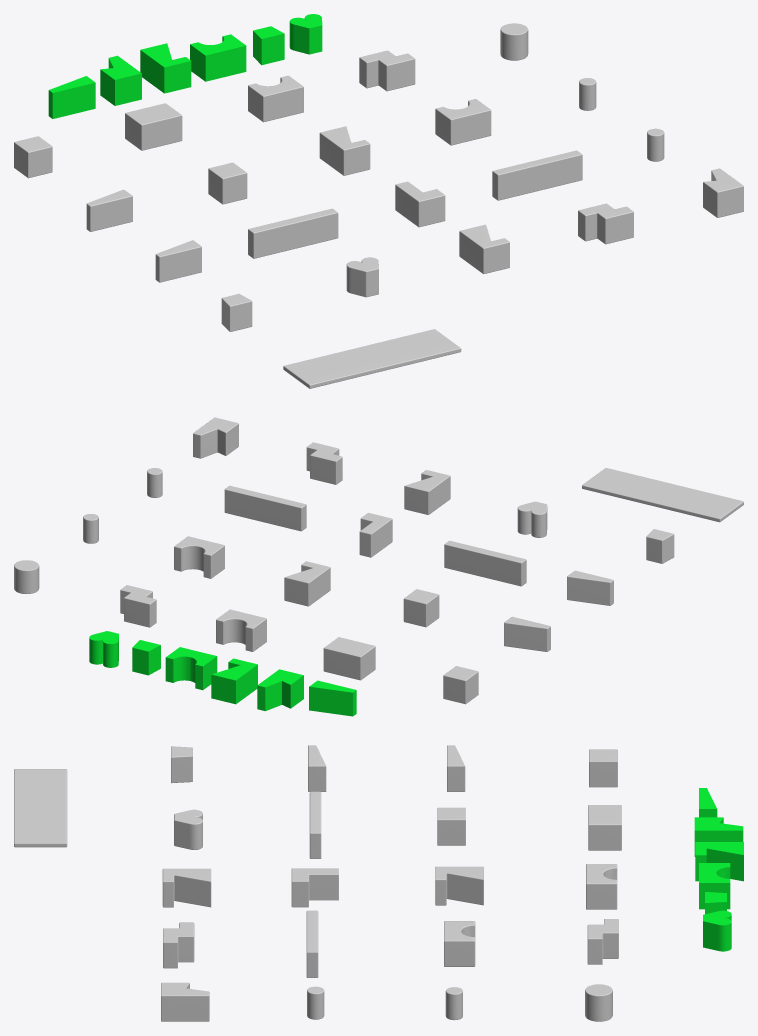
The model's file is badaboum.glb.
3 renders of one model, top to bottom at view 1: azimuth 30°, elevation 25°; view 2: azimuth 150°, elevation 25°; view 3: azimuth 270°, elevation 25°, orthographic. The views are drawn at different scales.
Parts seen in each view (by area): view 1: board, b_12, b_19, b_1, b_10, b_2, b_3, b_14, b_9, b_13, b_11, b_15 (+15 smaller); view 2: board, b_19, b_12, b_1, b_10, b_2, b_9, b_13, b_15, c_91, s_7, b_7 (+15 smaller); view 3: board, b_13, b_9, b_15, b_11, b_1, b_2, b_10, b_14, b_3, b_0, b_8 (+13 smaller).
Part boxes in pixels (box(x1,y1,x2,y2)): board: box(283, 329, 461, 388); b_12: box(492, 150, 582, 200); b_19: box(248, 208, 338, 258); b_1: box(125, 103, 182, 150); b_10: box(435, 99, 491, 145); b_2: box(248, 75, 303, 122); b_3: box(359, 50, 415, 91); b_14: box(578, 203, 633, 244); b_9: box(319, 126, 370, 175); b_13: box(459, 224, 509, 274); b_11: box(395, 181, 445, 227); b_15: box(703, 168, 743, 217); board: box(582, 468, 743, 522); b_19: box(444, 540, 526, 586); b_12: box(224, 485, 306, 531); b_1: box(323, 637, 375, 680); b_10: box(174, 536, 224, 578); b_2: box(216, 609, 266, 651); b_9: box(284, 561, 330, 606); b_13: box(404, 470, 450, 514); b_15: box(193, 417, 238, 458); c_91: box(211, 664, 257, 704); s_7: box(309, 680, 356, 716); b_7: box(504, 616, 550, 651); board: box(14, 769, 67, 847); b_13: box(162, 868, 211, 907); b_9: box(435, 866, 483, 905); b_15: box(161, 982, 209, 1021); b_11: box(291, 868, 338, 907); b_1: box(588, 805, 621, 850); b_2: box(586, 864, 617, 909); b_10: box(444, 921, 475, 966); b_14: box(163, 922, 194, 968); b_3: box(587, 919, 618, 964); b_0: box(589, 749, 617, 787); b_8: box(437, 807, 465, 845).
Size of the model in its own units: 51.24 by 2.5 by 63.03.
